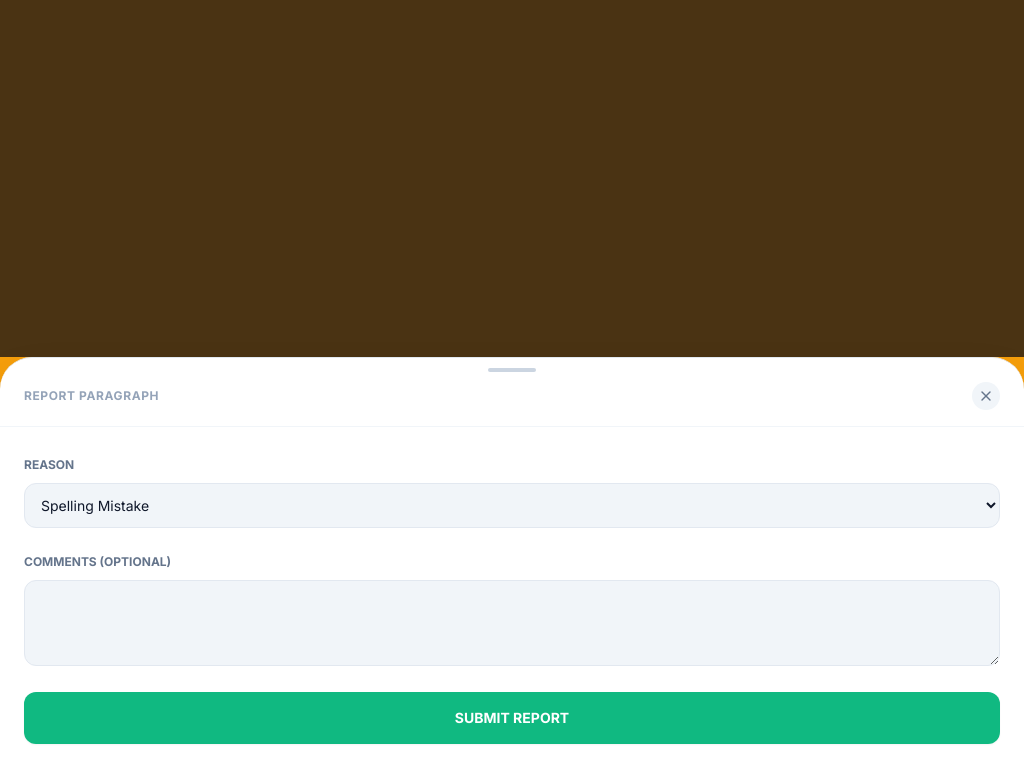
Test: ReportParagraphSheet › renders and submits a report
The width and height of the screenshot is (1024, 768).
(page scrolled)
Expected: the heading "Report Paragraph" is shown, [24, 388, 159, 404]
Click the button "Submit Report": (512, 718) [24, 692, 1000, 744]
(page scrolled)
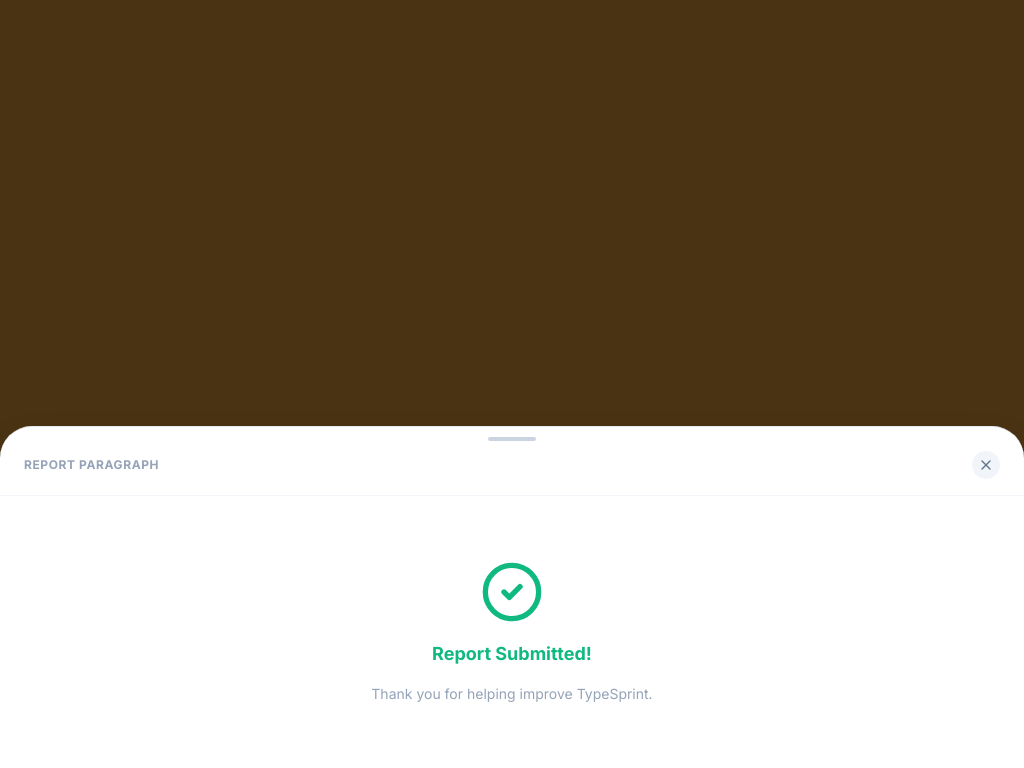
Result: the heading "Report Submitted!" is shown at [432, 640, 592, 668]
